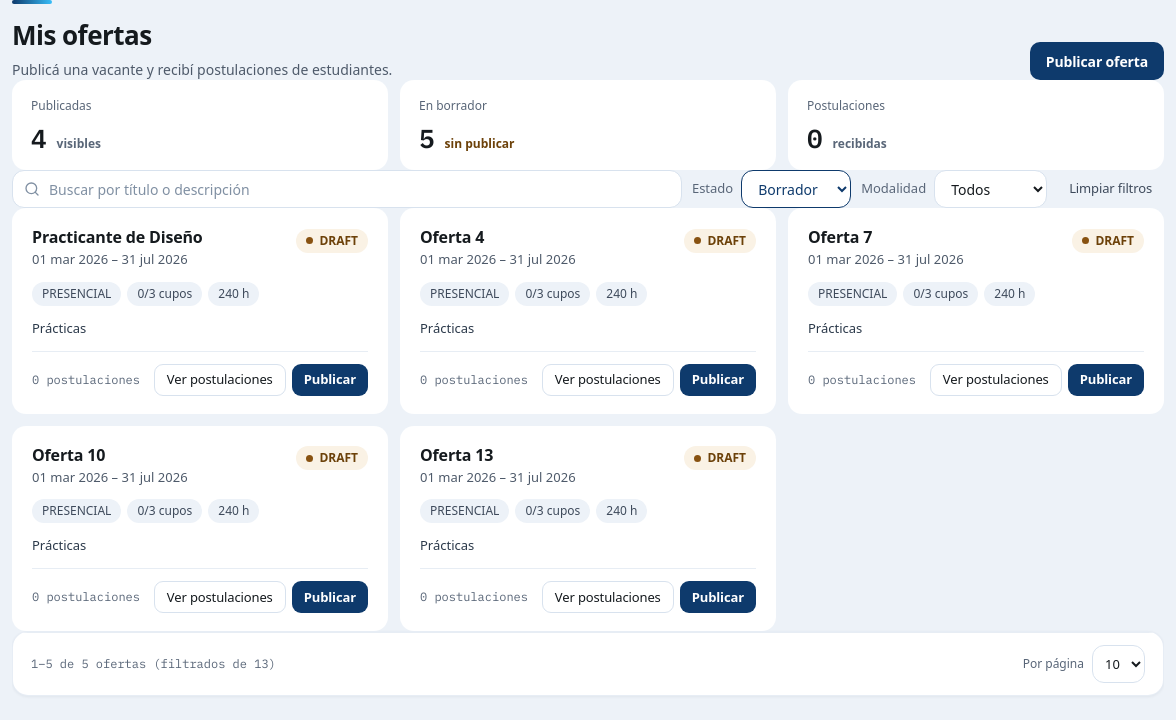
Test: CompanyOffersPage › filters by status and searches by title
Expected: the text "1–5 de 5 ofertas (filtrados de 13)" is shown, left=31, top=655, right=276, bottom=673
In the search field: (347, 189) left=12, top=170, right=682, bottom=208, type "diseno"
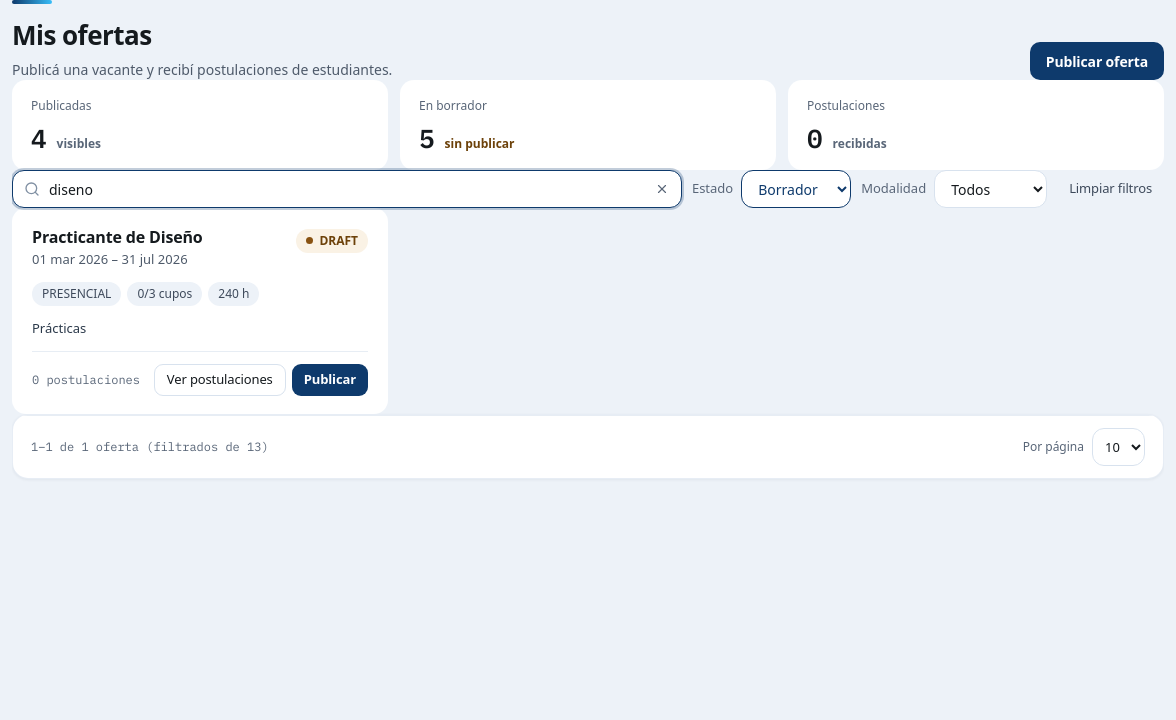
Expected: the heading "Practicante de Diseño" is shown, left=32, top=226, right=203, bottom=248
Expected: the text "1–1 de 1 oferta (filtrados de 13)" is shown, left=31, top=438, right=269, bottom=456
